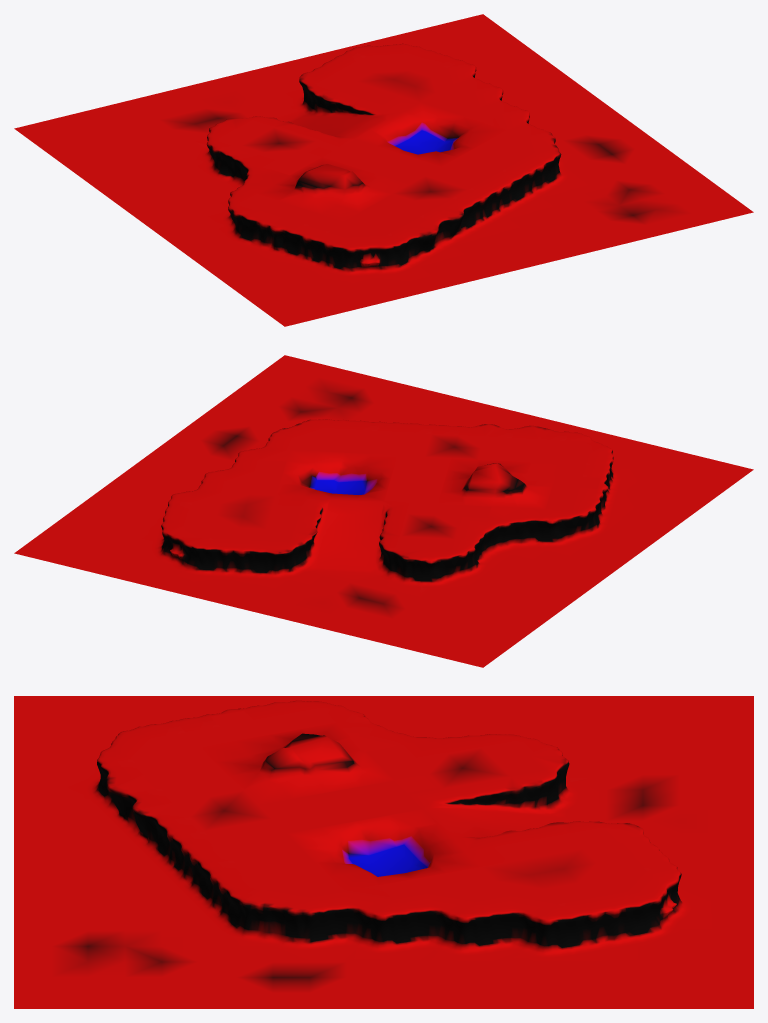
The model's file is Ground.fbx.
3 renders of one model, top to bottom at view 1: azimuth 30°, elevation 25°; view 2: azimuth 150°, elevation 25°; view 3: azimuth 270°, elevation 25°, orthographic. The views are drawn at different scales.
Visible parts, largest first — view 1: Ground; view 2: Ground; view 3: Ground.
Boxes of the visible parts, bbox=[...] form: Ground: bbox=[14, 14, 753, 326]; Ground: bbox=[14, 355, 753, 667]; Ground: bbox=[14, 696, 753, 1008].
Size of the model in its own units: 20 by 1.61 by 20.
